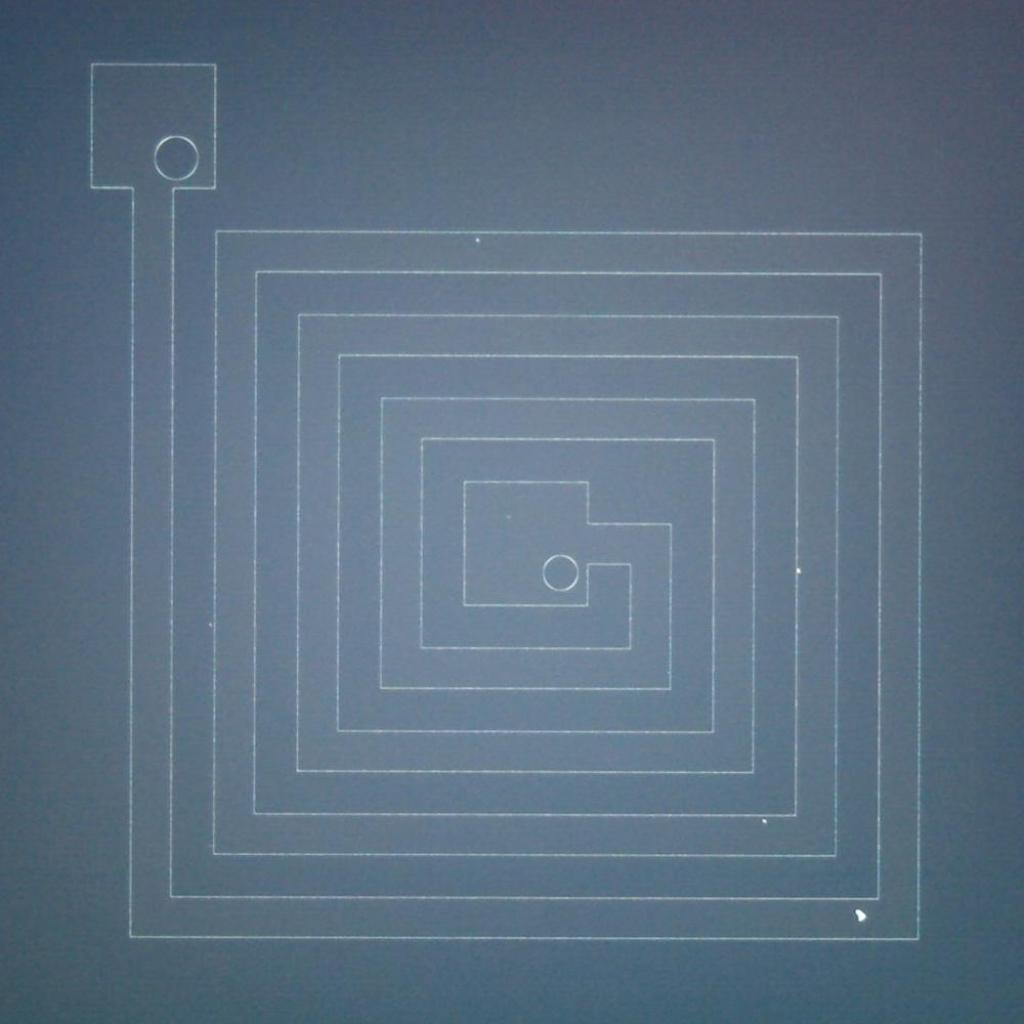dot: (855, 909, 867, 921), (796, 568, 801, 574), (475, 238, 481, 242), (762, 820, 767, 824)
